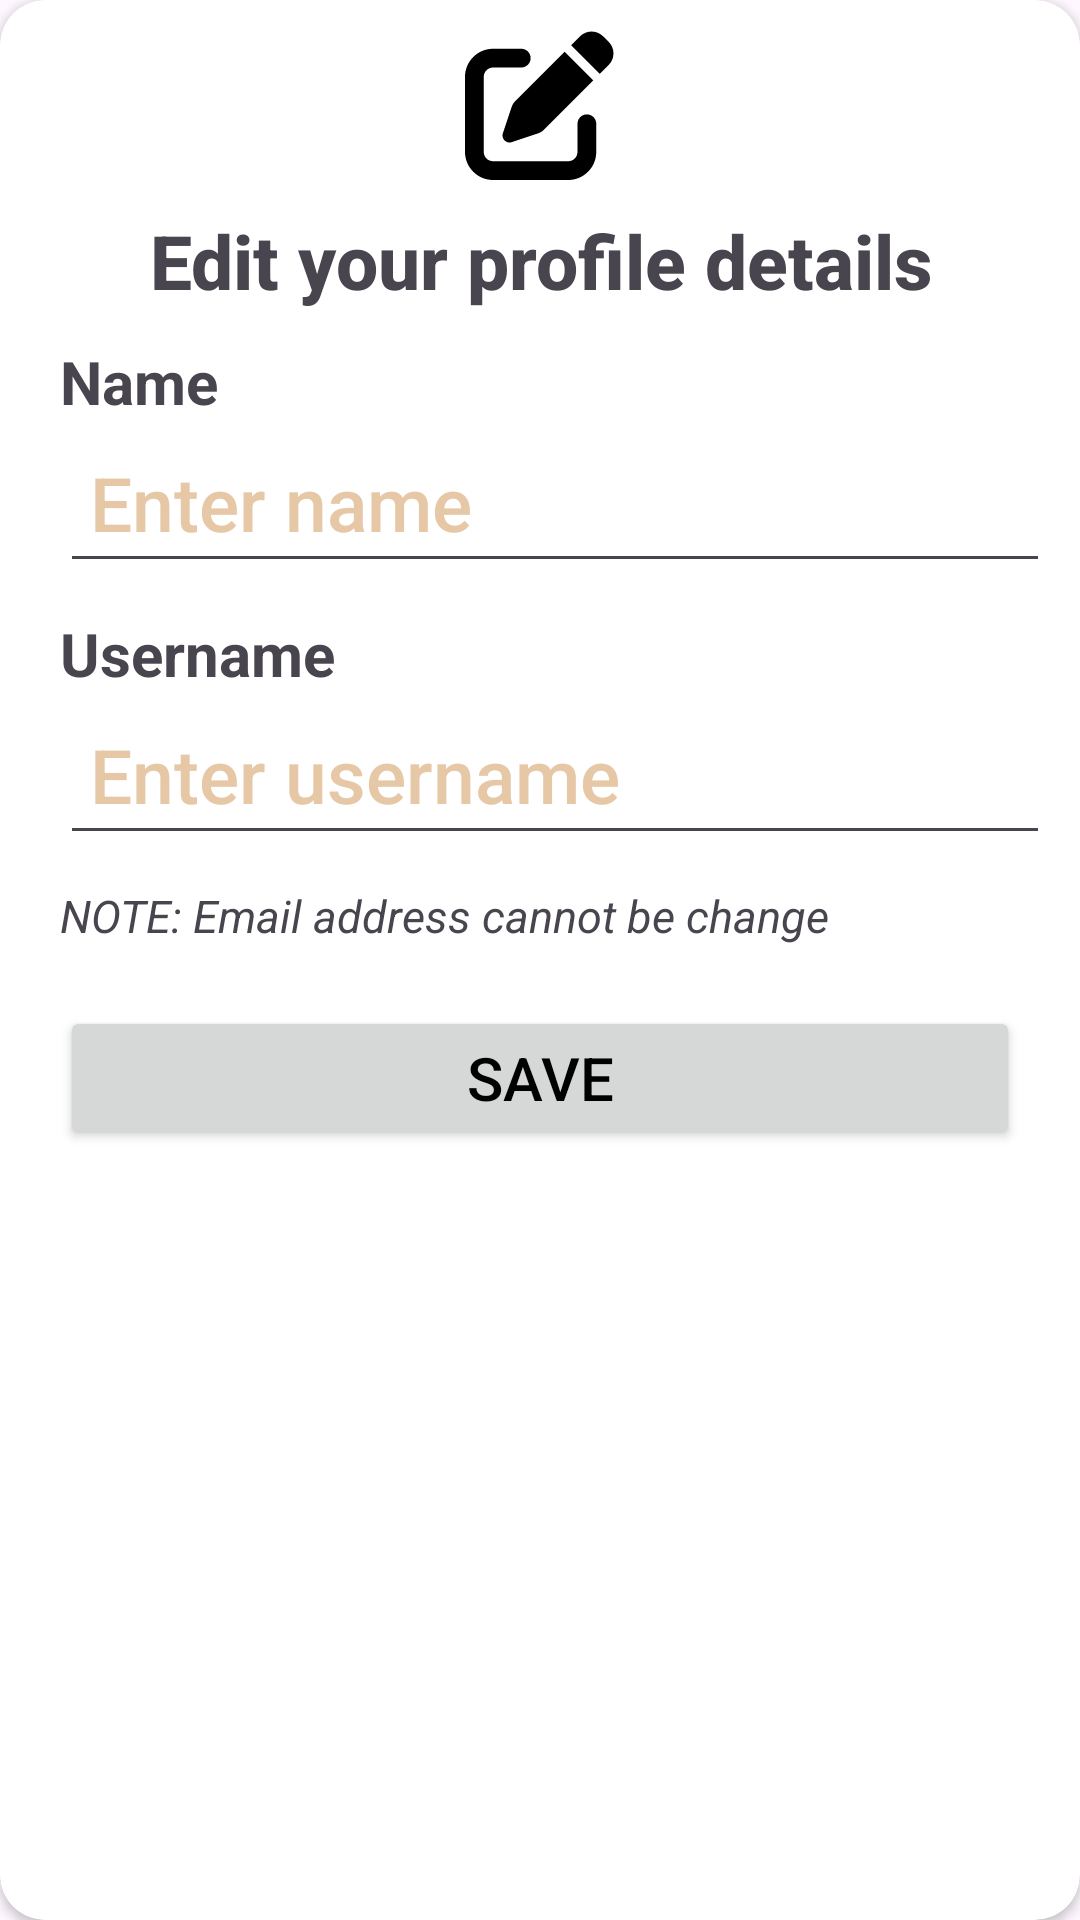

Icons on this 1080x1920 Android screen, each with its box as (x1, y1, x2, y2):
pen: (465, 31, 614, 180)
